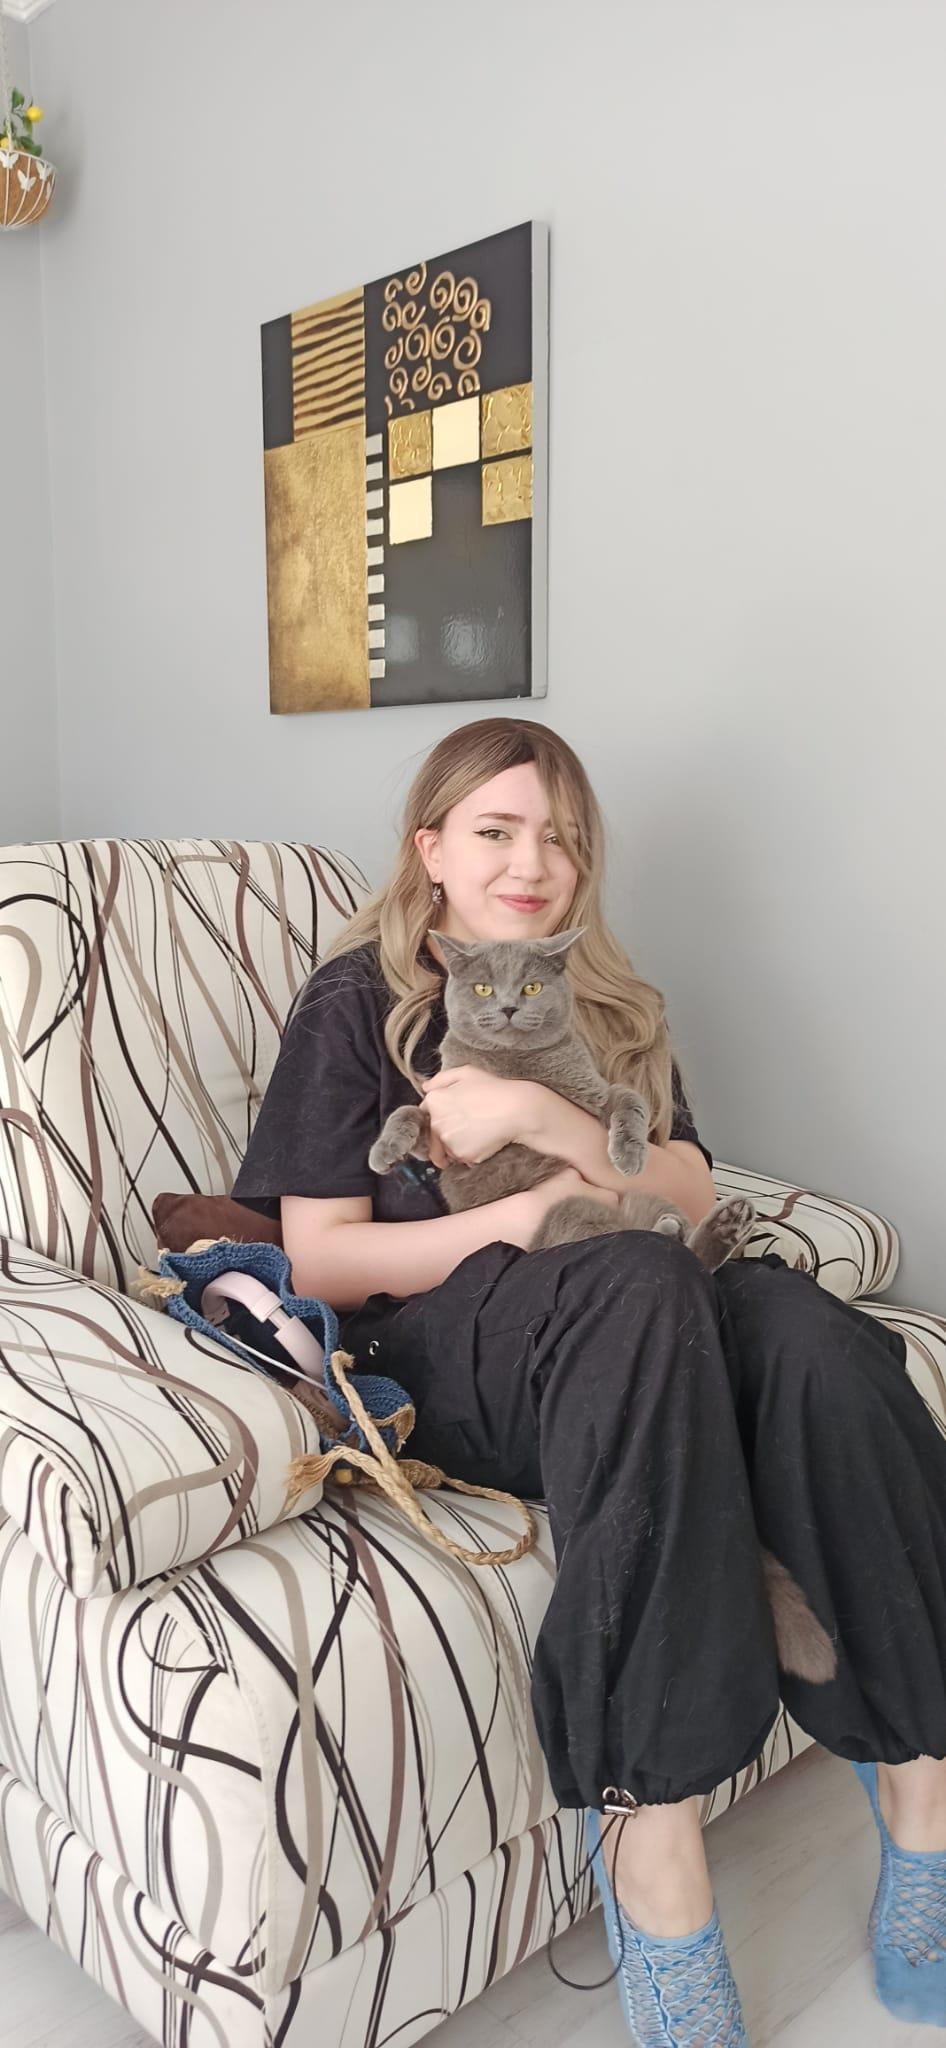kedo: (430, 929, 578, 1058)
